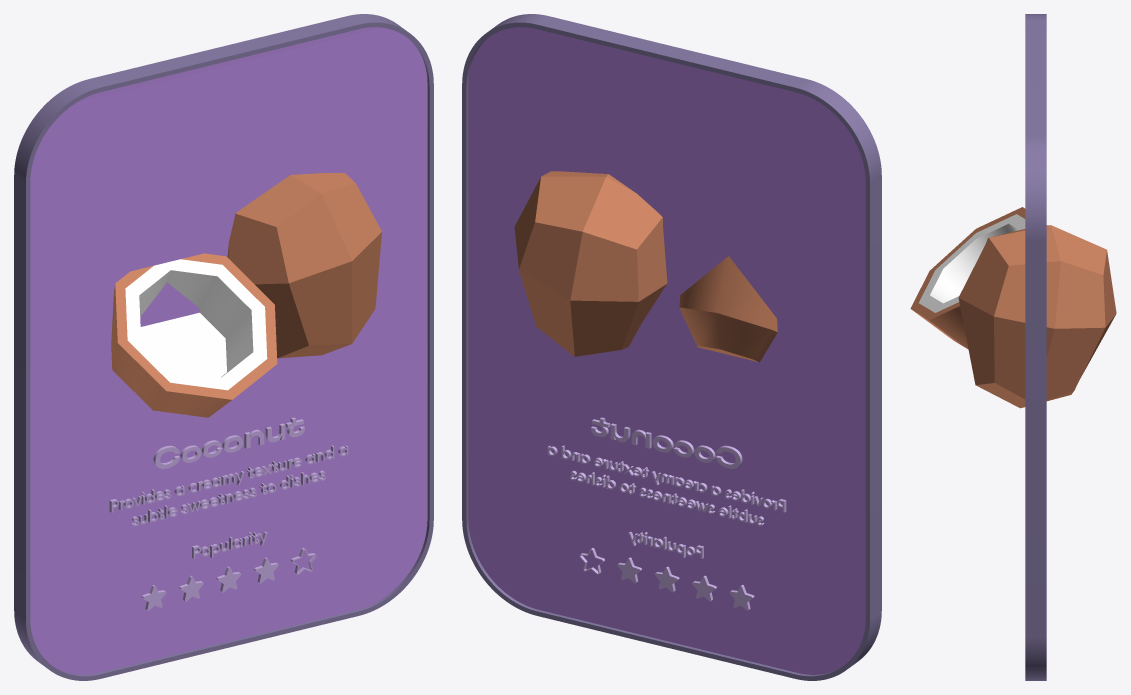
The model's file is coconut.gltf.
3 renders of one model, left to right at view 1: azimuth 30°, elevation 25°; view 2: azimuth 150°, elevation 25°; view 3: azimuth 270°, elevation 25°, orthographic. The views are drawn at different scales.
Parts seen in each view (by area): view 1: Mesh_988.002, CoconutPalmTree.022, Mesh_2378.002, Mesh_1771.002, Mesh_1403.002, Mesh_2646.001; view 2: Mesh_988.002, CoconutPalmTree.022, Mesh_2378.002, Mesh_1771.002, Mesh_1403.002, Mesh_2646.001; view 3: CoconutPalmTree.022, Mesh_2378.002.
Boxes of the visible parts, left/top/right/bottom form: Mesh_988.002: left=30, top=27, right=427, bottom=674; CoconutPalmTree.022: left=111, top=173, right=381, bottom=417; Mesh_2378.002: left=14, top=14, right=433, bottom=680; Mesh_1771.002: left=109, top=445, right=348, bottom=558; Mesh_1403.002: left=153, top=417, right=304, bottom=468; Mesh_2646.001: left=141, top=548, right=316, bottom=610; Mesh_988.002: left=468, top=27, right=865, bottom=674; CoconutPalmTree.022: left=514, top=171, right=777, bottom=362; Mesh_2378.002: left=462, top=14, right=881, bottom=680; Mesh_1771.002: left=547, top=445, right=786, bottom=558; Mesh_1403.002: left=591, top=417, right=742, bottom=468; Mesh_2646.001: left=579, top=548, right=754, bottom=610; CoconutPalmTree.022: left=910, top=207, right=1116, bottom=408; Mesh_2378.002: left=1025, top=14, right=1046, bottom=680.
Size of the model in its own units: 0.3625 by 0.5019 by 0.1745.
33 materials, 28 textured.
